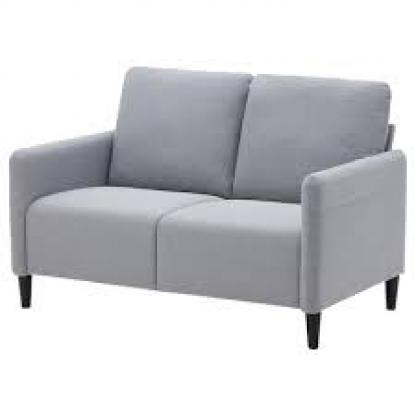sofa: (13, 59, 412, 351)
